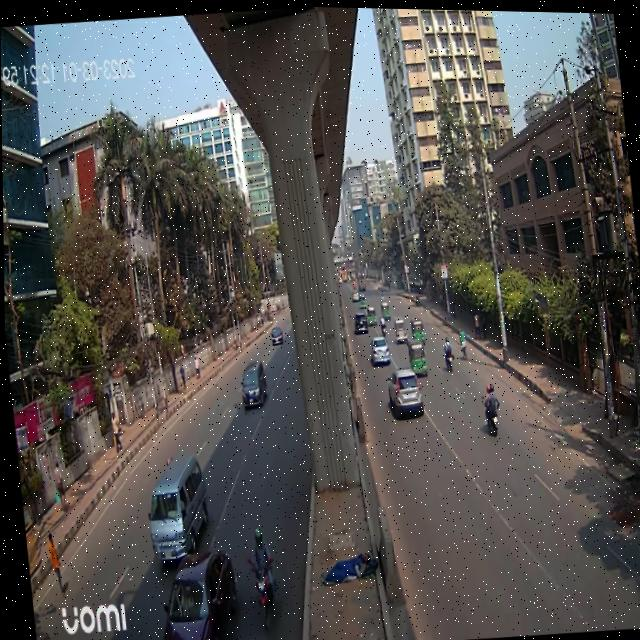cng: (403, 330, 429, 384), (405, 309, 427, 348), (377, 295, 390, 326), (365, 299, 377, 330)
